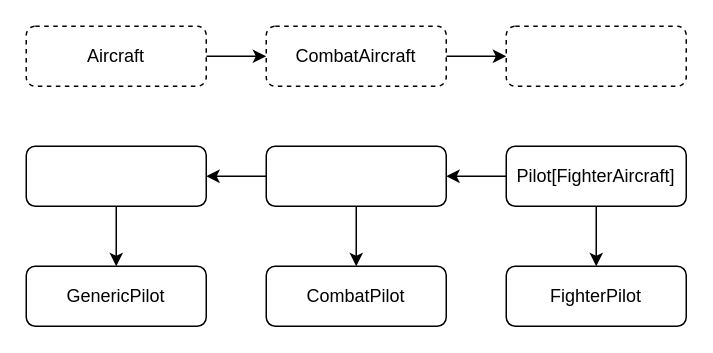
The diagram is 713 pixels wide and 353 high, and some of its shapes have lost their labels. Here are the shapes that lost their labels. From the top down, the centre of each, then its label:
[595,55]: FighterAircraft
[115,175]: Pilot[Aircraft]
[355,175]: Pilot[CombatAircraft]
